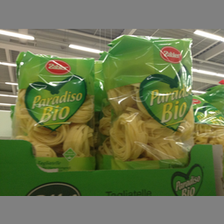pasta: (99, 33, 195, 169), (14, 51, 98, 170)
